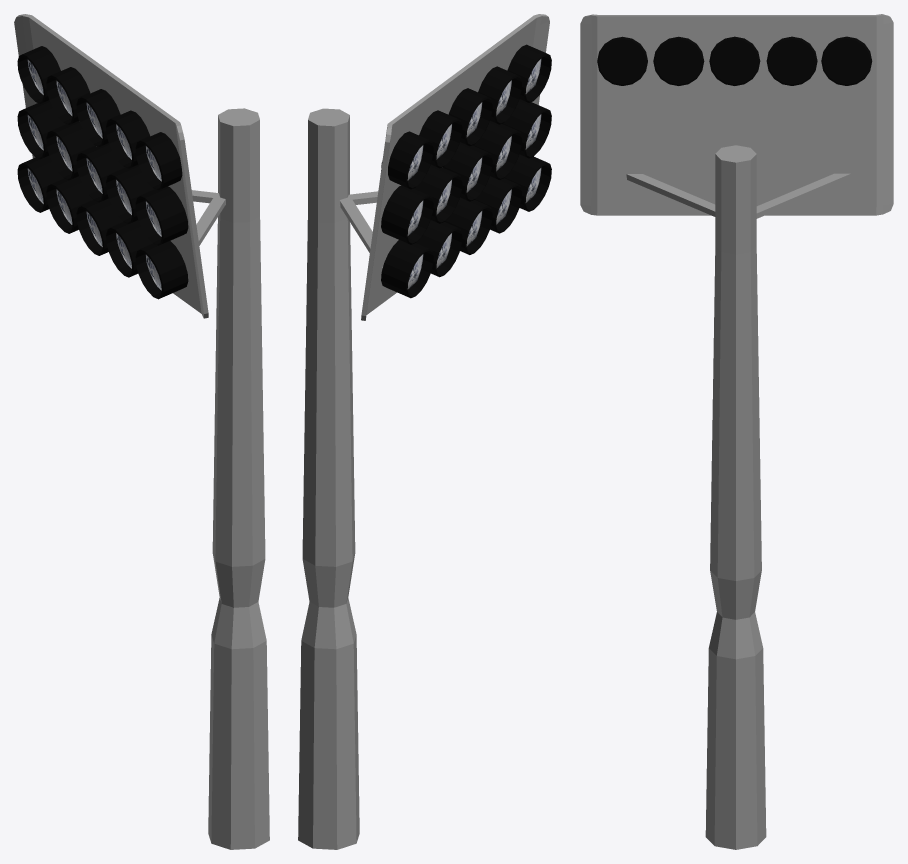
Rendered from stadiumLight.FBX.
3 renders of one model, left to right at view 1: azimuth 30°, elevation 25°; view 2: azimuth 150°, elevation 25°; view 3: azimuth 270°, elevation 25°, orthographic. The views are drawn at different scales.
Parts seen in each view (by area): view 1: Cylinder116, Group32409, Box226; view 2: Cylinder116, Group32409, Box226; view 3: Box226, Cylinder116, Group32409.
Part boxes in pixels (x1,y1,x2,y2): Cylinder116: [208, 108, 269, 849]; Group32409: [17, 46, 225, 299]; Box226: [14, 14, 208, 318]; Cylinder116: [298, 108, 359, 849]; Group32409: [340, 44, 551, 298]; Box226: [361, 14, 549, 320]; Box226: [580, 14, 893, 215]; Cylinder116: [705, 145, 766, 849]; Group32409: [597, 36, 872, 218].
Size of the model in its own units: 39.55 by 167 by 62.29.
3 materials, 1 textured.
